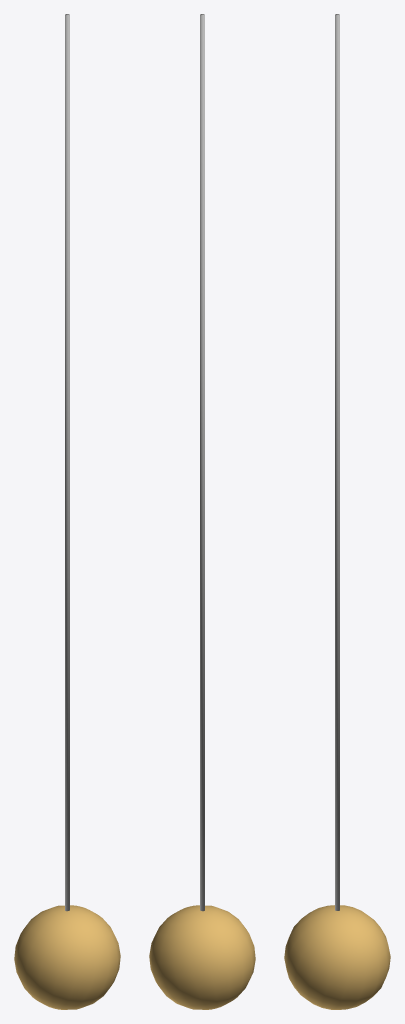
Rendered from pendulum_snake_p3.glb.
3 views of the same model, side by side, from view 1: azimuth 30°, elevation 25°; view 2: azimuth 150°, elevation 25°; view 3: azimuth 330°, elevation 25° (orthographic).
Visible parts, largest first — view 1: Sphere3.001, Pendulum3.001; view 2: Sphere3.001, Pendulum3.001; view 3: Sphere3.001, Pendulum3.001.
Part boxes in pixels (x1,y1,x2,y2): Sphere3.001: (14, 905, 120, 1009); Pendulum3.001: (65, 14, 69, 911); Sphere3.001: (149, 905, 255, 1009); Pendulum3.001: (200, 14, 204, 911); Sphere3.001: (284, 905, 390, 1009); Pendulum3.001: (335, 14, 339, 910).
Size of the model in its own units: 0.04 by 0.4146 by 0.04.
